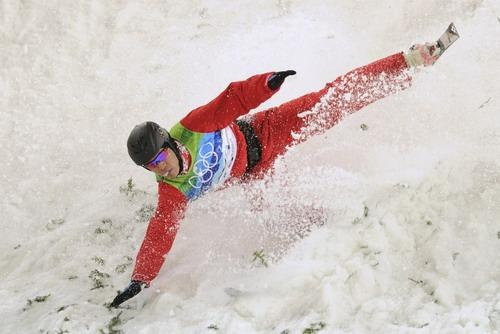falling: (114, 30, 483, 301)
